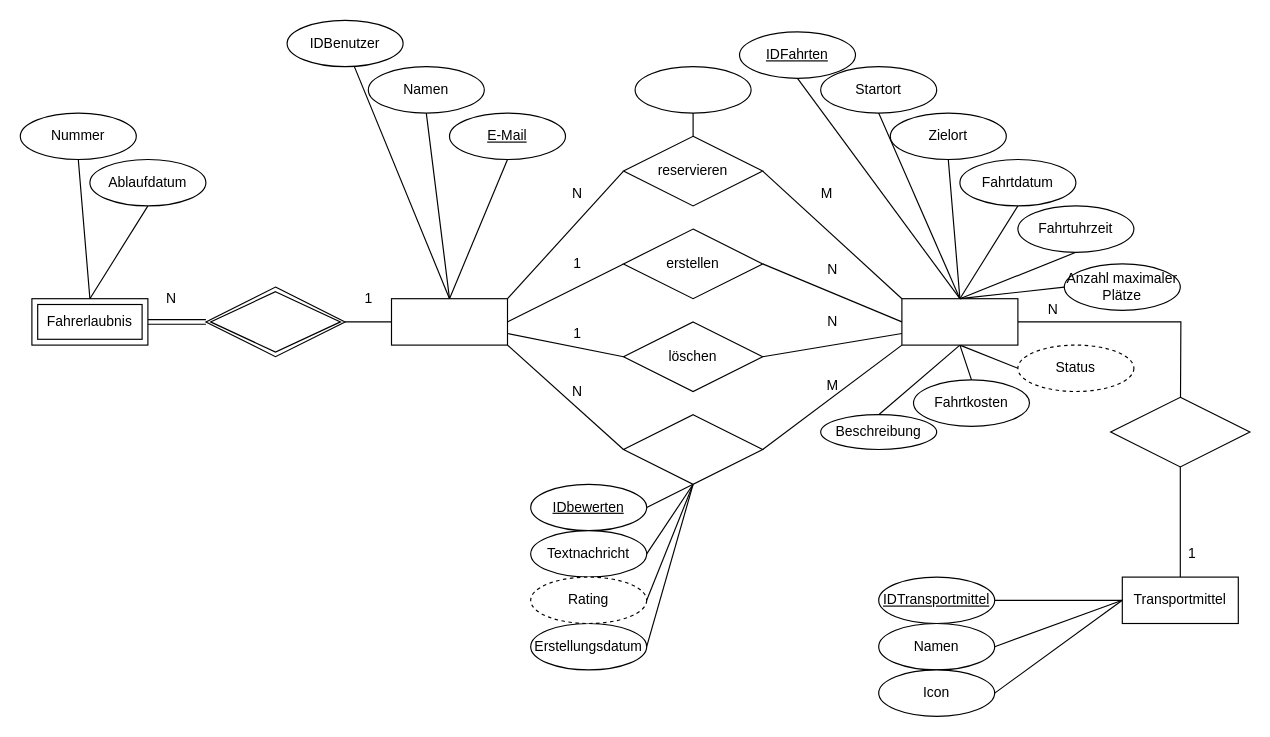
The diagram is 1270 pixels wide and 737 high, and some of its shapes have lost their labels. Here are the shapes that lost their labels. From the top down, the box of each, then its label:
(634, 66, 751, 113): Anzahl zu reservierenden Plätze
(205, 286, 345, 357): besitzen
(390, 298, 507, 345): Benutzer
(901, 298, 1018, 345): Fahrten
(622, 414, 763, 484): bewerten
(1110, 396, 1250, 467): zuordnen
